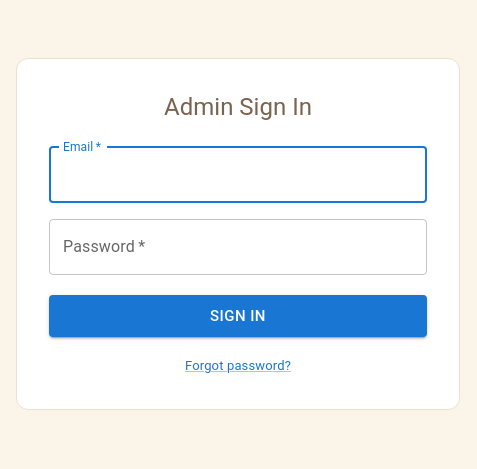
Test case: AdminLoginPage › sends a reset link once an email is filled in
This screenshot has width=477, height=469.
Type "organiser@example.com" into the field labelled "Email *" at (238, 175), box [49, 147, 427, 203]
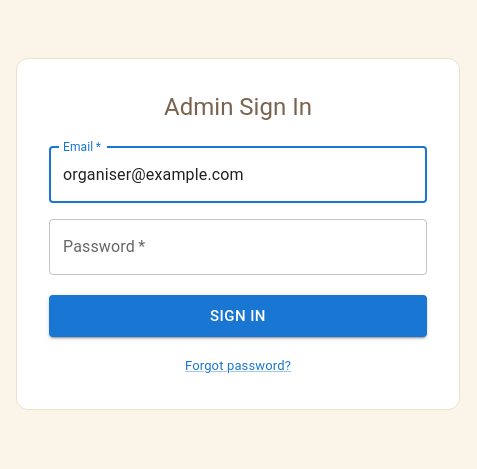
Click the button "Forgot password?" at (238, 366), box [185, 356, 291, 376]
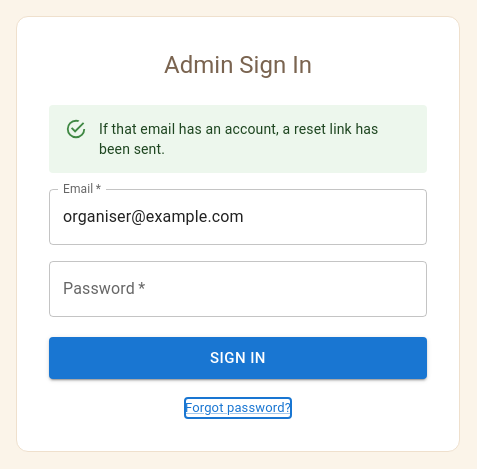
expect the text "If that email has an account, a reset link has been sent." is shown: met, box [99, 111, 411, 167]
